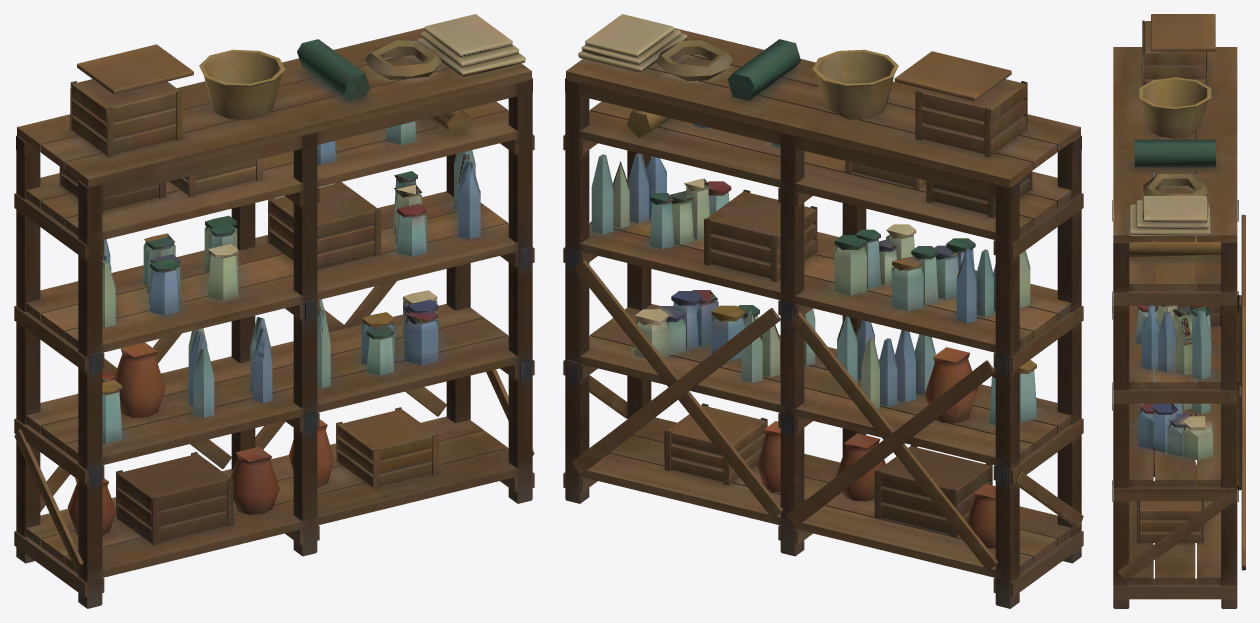
File: rack-long.low.glb
The picture shows the model from 3 angles, left to right: view 1: azimuth 30°, elevation 25°; view 2: azimuth 150°, elevation 25°; view 3: azimuth 270°, elevation 25°; orthographic projection. The views are drawn at different scales.
Parts seen in each view (by area): view 1: rack-long; view 2: rack-long; view 3: rack-long.
Part boxes in pixels (box(x1,y1,x2,y2)): rack-long: box(14, 14, 534, 608); rack-long: box(563, 14, 1083, 608); rack-long: box(1112, 14, 1245, 608).
Size of the model in its own units: 1.69 by 1.75 by 0.4965.
Materials: 1 (1 with a texture image).
